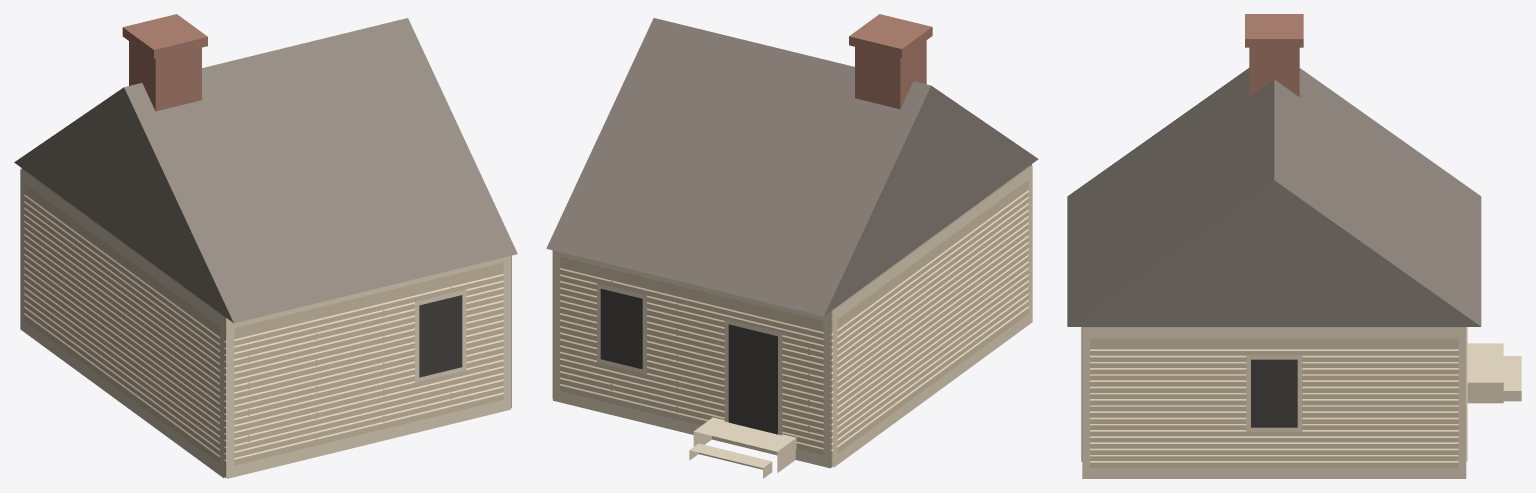
Rendered from recon_1835_south_d3_017__inferred_1835.glb.
3 views of the same model, side by side, from view 1: azimuth 30°, elevation 25°; view 2: azimuth 150°, elevation 25°; view 3: azimuth 270°, elevation 25° (orthographic). The views are drawn at different scales.
Visible parts, largest first — view 1: recon_1835_south_d3_017__inferred_1835; view 2: recon_1835_south_d3_017__inferred_1835; view 3: recon_1835_south_d3_017__inferred_1835.
Boxes of the visible parts, x1,y1,x2,y2 form: recon_1835_south_d3_017__inferred_1835: (14,14,517,478); recon_1835_south_d3_017__inferred_1835: (546,14,1038,478); recon_1835_south_d3_017__inferred_1835: (1067,14,1521,478).
Size of the model in its own units: 5.22 by 6.26 by 7.57.
